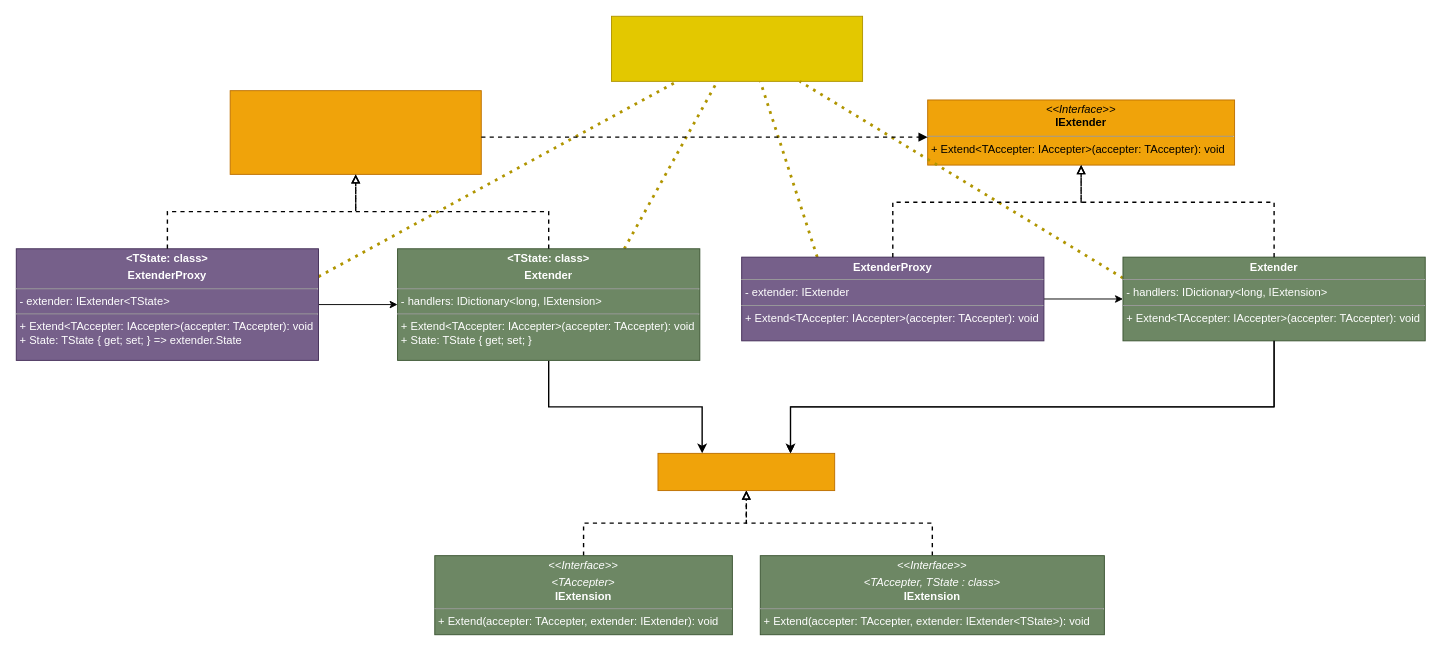
The diagram is 1442 pixels wide and 651 high, and some of its shapes have lost their labels. The centre of each missing label's shape, as x and y in pixels:
<<Interface>> <TState: class> IExtender + State: TState { get; set; }: the point at 355,132
<<Interface>> IAccepter + Accept(extender: IExtender): void: the point at 737,48
<<Interface>> IExtension: the point at 746,471
